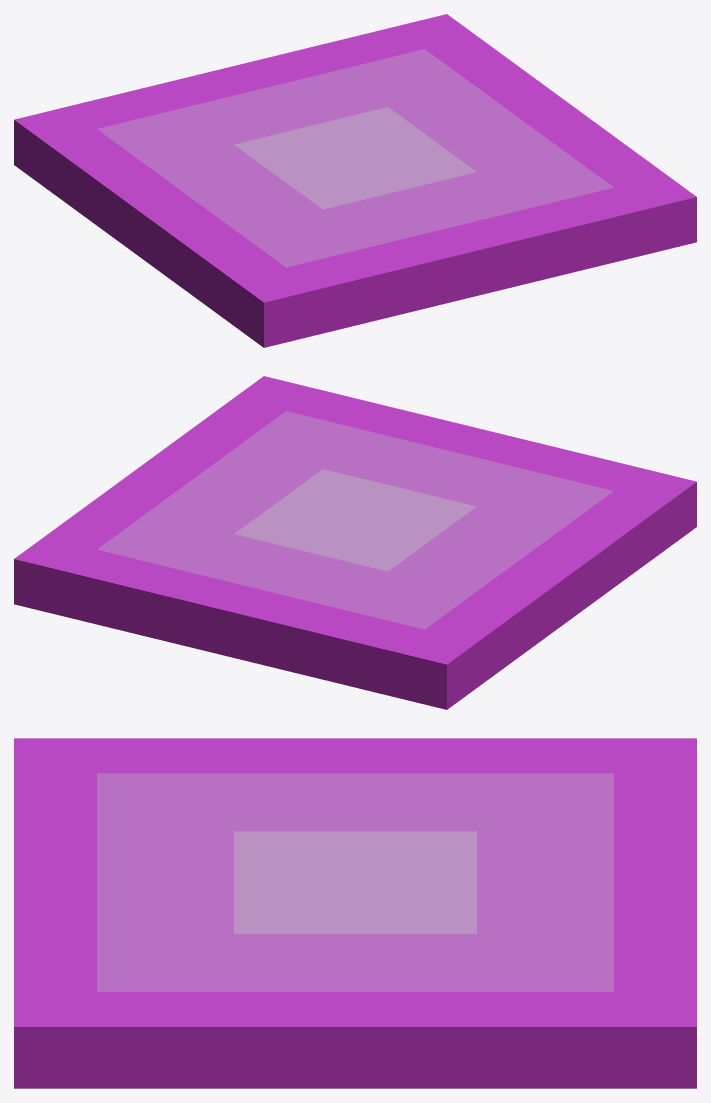
The model's file is TilePink.fbx.
3 views of the same model, one above another, from view 1: azimuth 30°, elevation 25°; view 2: azimuth 150°, elevation 25°; view 3: azimuth 270°, elevation 25° (orthographic). The views are drawn at different scales.
Parts seen in each view (by area): view 1: Cube; view 2: Cube; view 3: Cube.
Part boxes in pixels (x1,y1,x2,y2): Cube: (14,14,696,347); Cube: (14,376,696,709); Cube: (14,738,696,1088).
Size of the model in its own units: 100 by 10 by 100.
